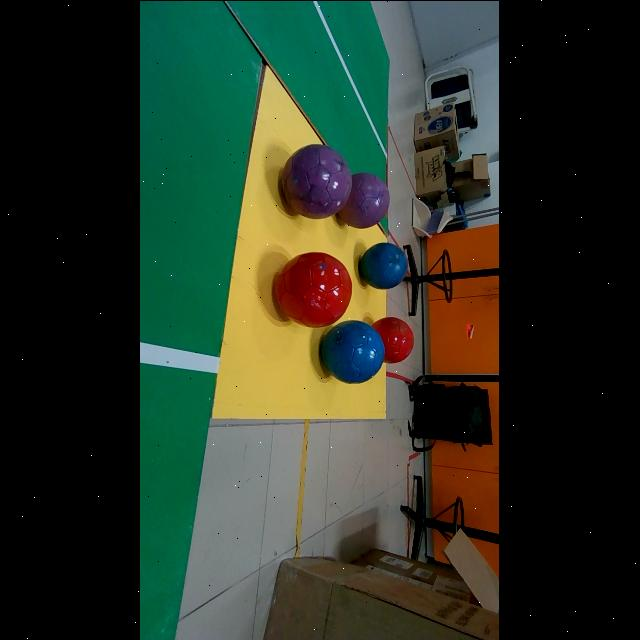B: (322, 320, 386, 382), (360, 242, 408, 288)
P: (282, 144, 352, 218), (339, 173, 390, 228)
R: (276, 252, 353, 326), (374, 316, 415, 363)
